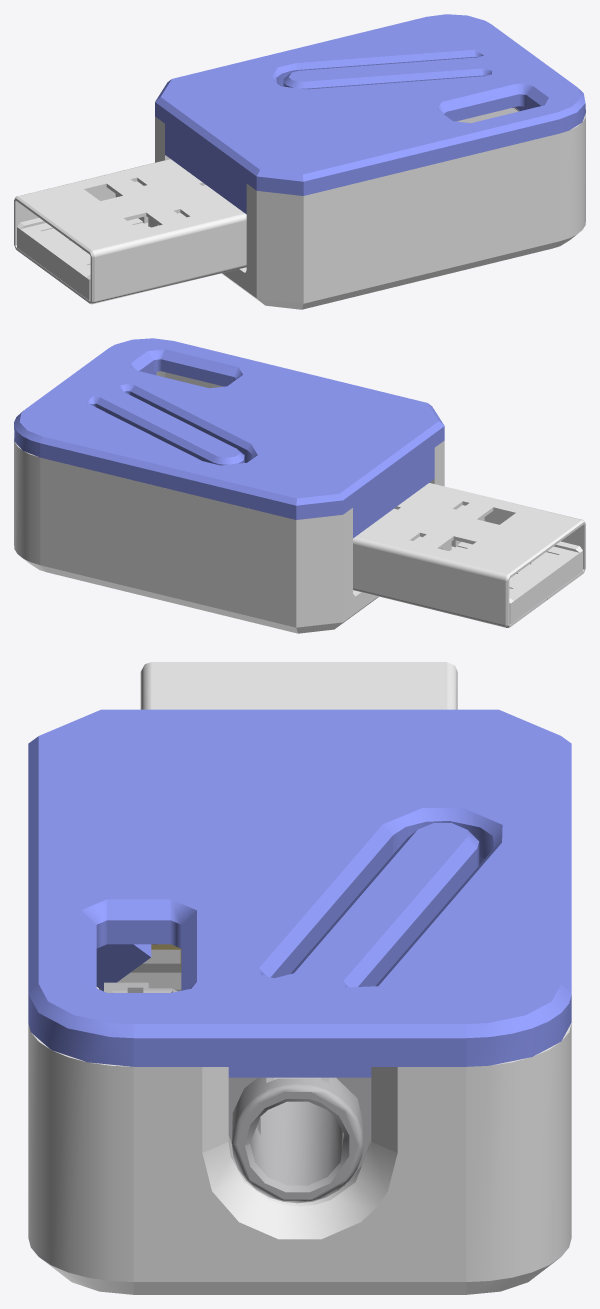
File: ada-5981.glb
3 views of the same model, one above another, from view 1: azimuth 30°, elevation 25°; view 2: azimuth 150°, elevation 25°; view 3: azimuth 270°, elevation 25° (orthographic). The views are drawn at different scales.
Parts seen in each view (by area): view 1: 0.9166666666666666_0.9166666666666666_0.9166666666666666_0.8, 0.25_0.3333333333333333_1_0; view 2: 0.9166666666666666_0.9166666666666666_0.9166666666666666_0.8, 0.25_0.3333333333333333_1_0; view 3: 0.25_0.3333333333333333_1_0, 0.9166666666666666_0.9166666666666666_0.9166666666666666_0.8, 0.5833333333333334_0.5833333333333334_0.5833333333333334_0.8, 0.3333333333333333_0.3333333333333333_0.3333333333333333_0.
Part boxes in pixels (x1,y1,x2,y2): 0.9166666666666666_0.9166666666666666_0.9166666666666666_0.8: (14,113,585,309); 0.25_0.3333333333333333_1_0: (155,14,585,214); 0.9166666666666666_0.9166666666666666_0.9166666666666666_0.8: (14,371,585,633); 0.25_0.3333333333333333_1_0: (14,338,444,538); 0.25_0.3333333333333333_1_0: (28,709,571,1077); 0.9166666666666666_0.9166666666666666_0.9166666666666666_0.8: (28,662,571,1294); 0.5833333333333334_0.5833333333333334_0.5833333333333334_0.8: (104,982,371,1203); 0.3333333333333333_0.3333333333333333_0.3333333333333333_0: (117,949,181,991).
Size of the model in its own units: 4.24 by 1.16 by 2.06.
